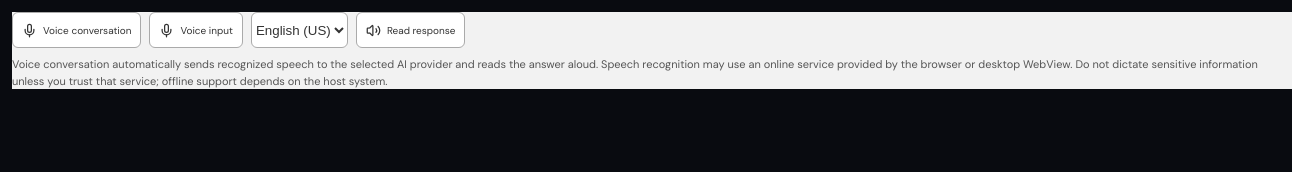
Scenario: VoiceControls › stops recognition and speech when voice conversation is ended
Click the button with aria-label "Start voice conversation".
click(77, 30)  # box [12,12,141,48]
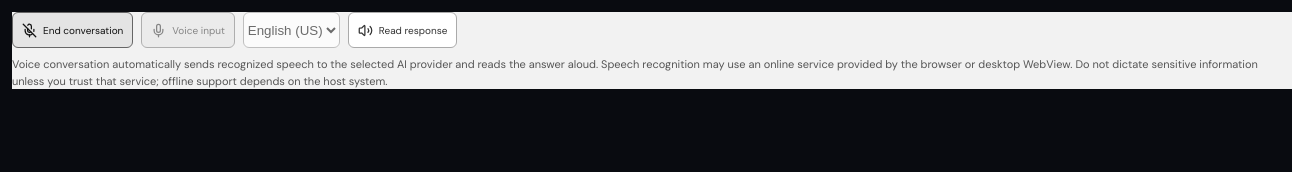
Click the button named "Start voice conversation".
click(73, 30)  # box [12,12,133,48]
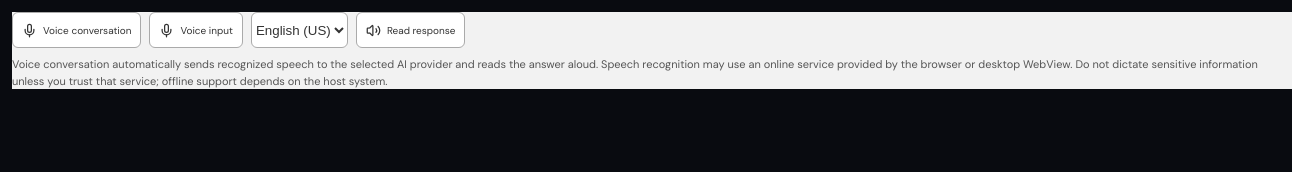
Now the text "End conversation" is gone
